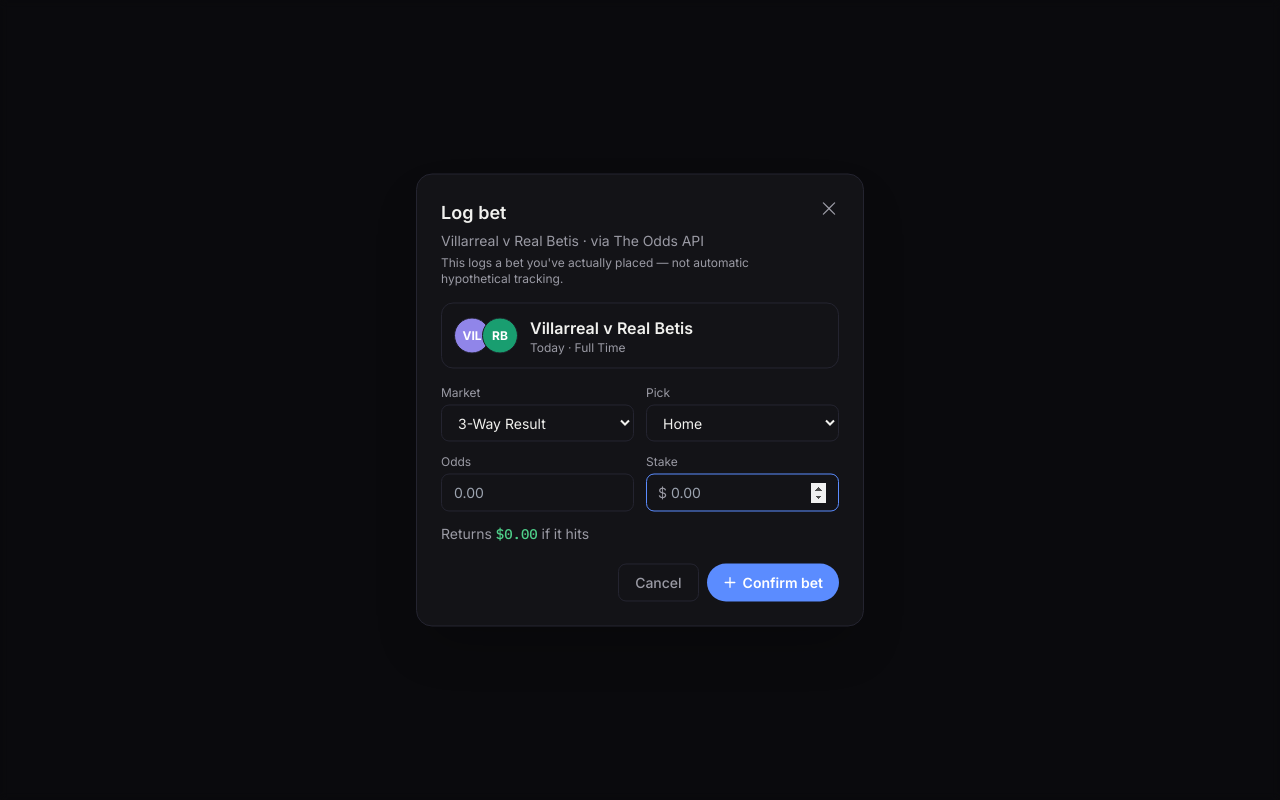
Scenario: LogBetModal › editable mode: changing market resets the selection
Select "Both Teams to Score" in the dropdown named "market" below "Market": (538, 423) [441, 404, 634, 442]
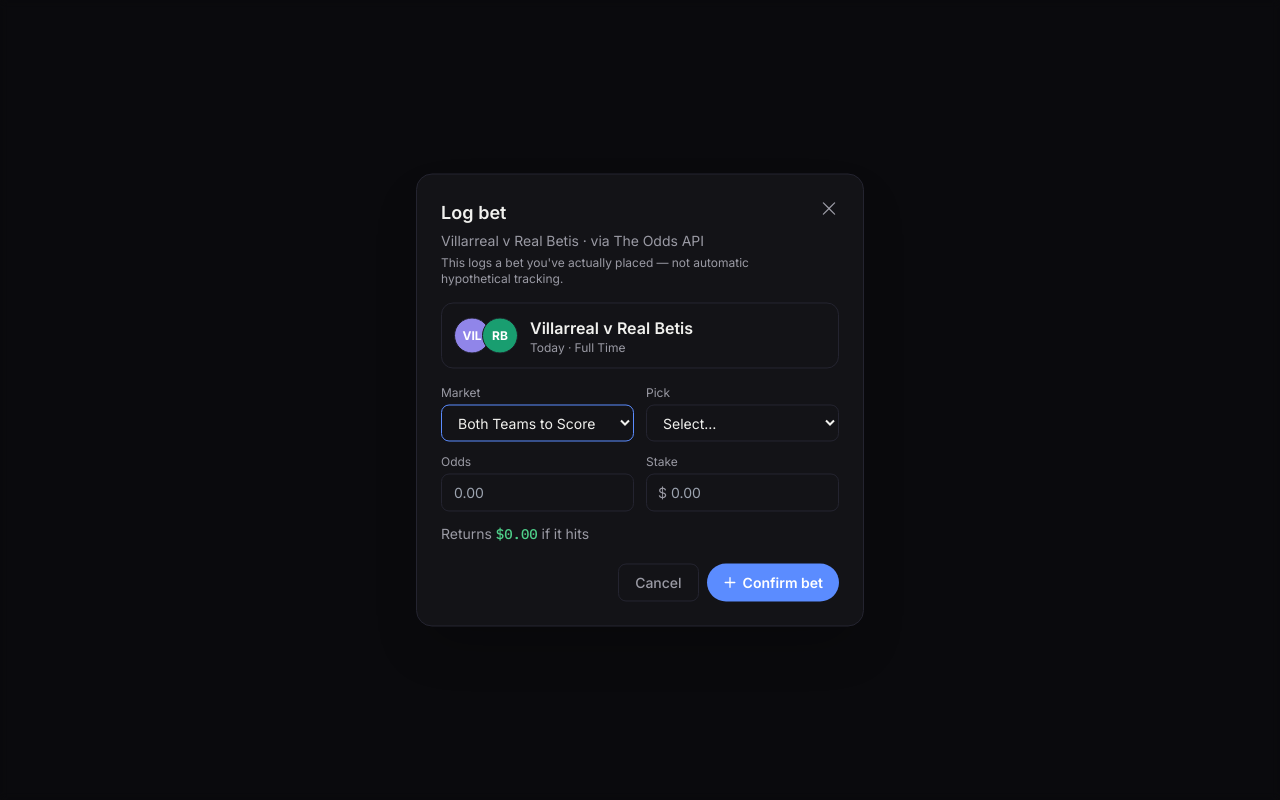
Check: the dropdown named "pick" below "Pick" shows "Select…", box [646, 404, 839, 442]
